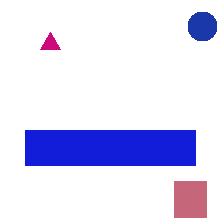circle: (188, 12, 216, 40)
rectangle: (25, 130, 195, 165), (174, 181, 206, 217)
triangle: (40, 32, 60, 49)
